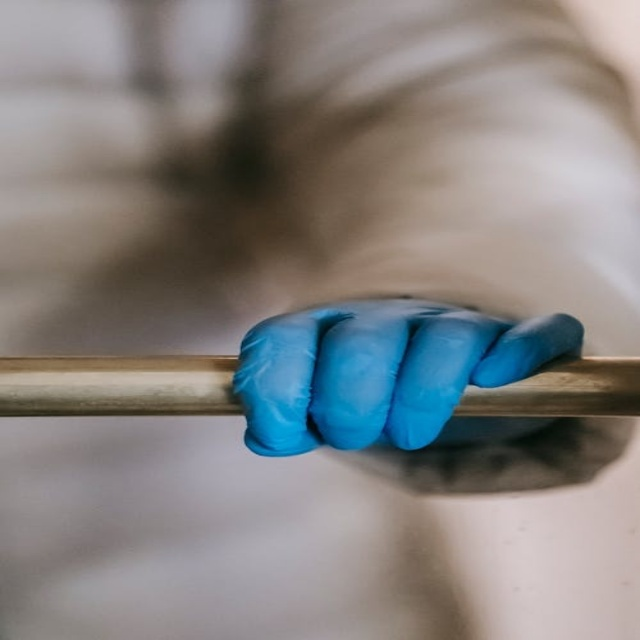Guantes: (231, 295, 583, 459)
